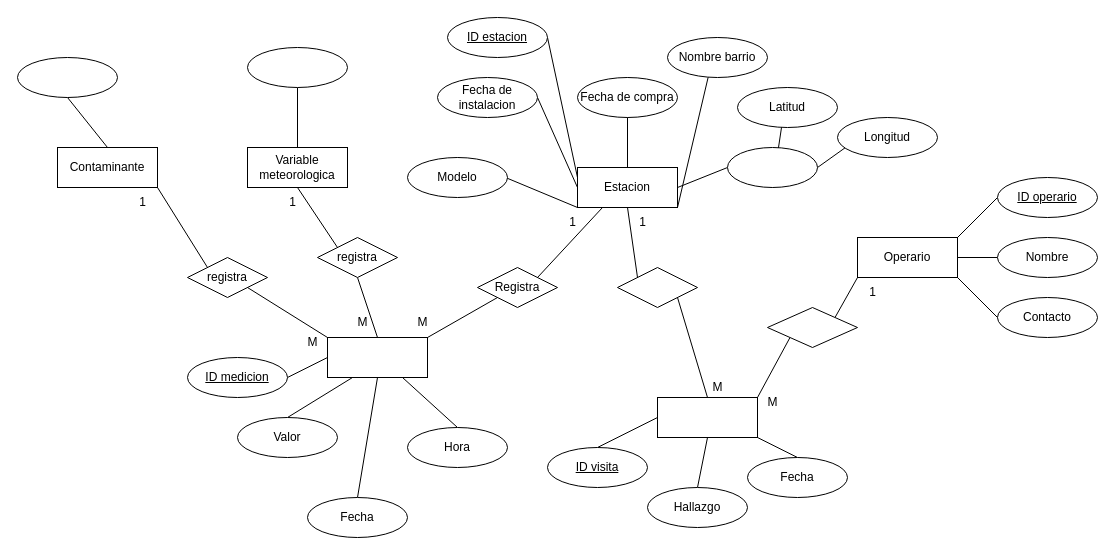
The diagram is 1115 pixels wide and 555 high, and some of its shapes have lost their labels. The shapes that lost their labels are listed below. From the top down, each one's centre as x and y in pixels, then its label:
the point at 67,77: ID contaminante
the point at 297,67: ID variable
the point at 772,167: Ubicacion
the point at 657,287: Recibe
the point at 812,327: Realiza
the point at 377,357: Medicion
the point at 707,417: Visita Mantenimiento
